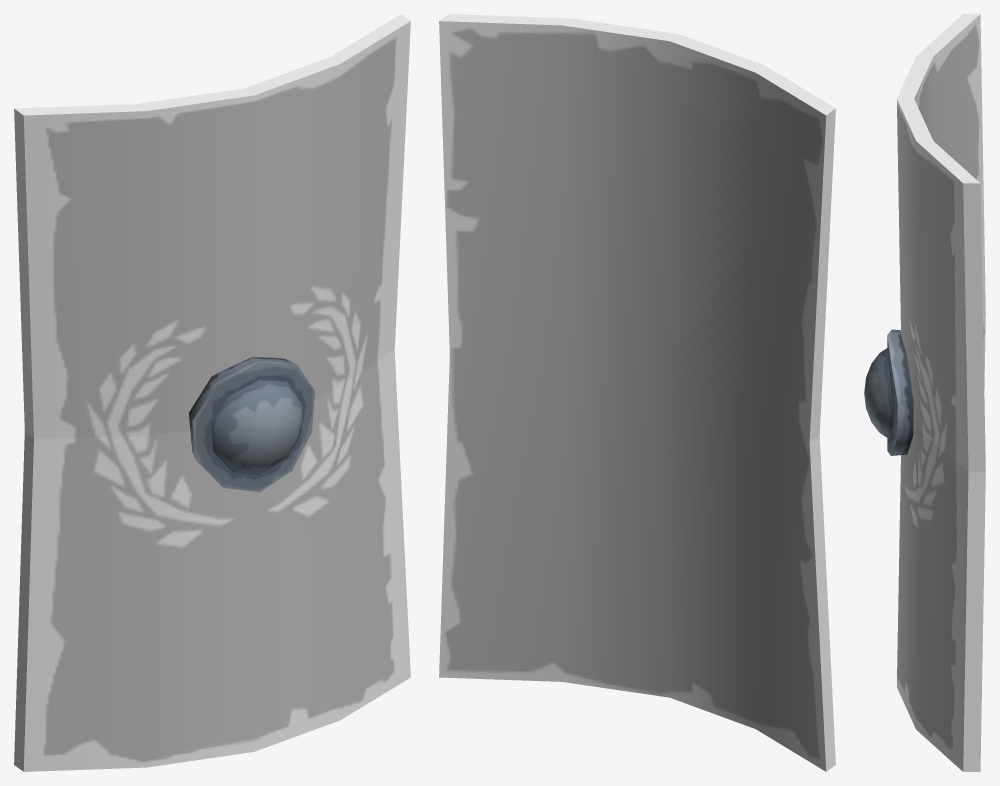
The model's file is ShieldSquare2.fbx.
3 views of the same model, side by side, from view 1: azimuth 30°, elevation 25°; view 2: azimuth 150°, elevation 25°; view 3: azimuth 270°, elevation 25° (orthographic). The views are drawn at different scales.
Visible parts, largest first — view 1: ShieldSquare2; view 2: ShieldSquare2; view 3: ShieldSquare2.
Boxes of the visible parts, box(x1,y1,x2,y2) form: ShieldSquare2: box(14, 14, 410, 771); ShieldSquare2: box(439, 14, 835, 771); ShieldSquare2: box(864, 14, 985, 771).
Size of the model in its own units: 75.08 by 122 by 22.8.
